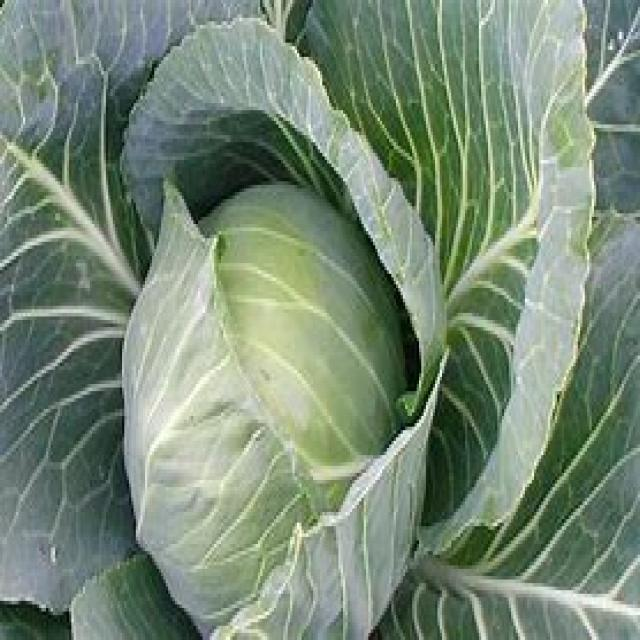cabbage: (101, 180, 419, 622)
